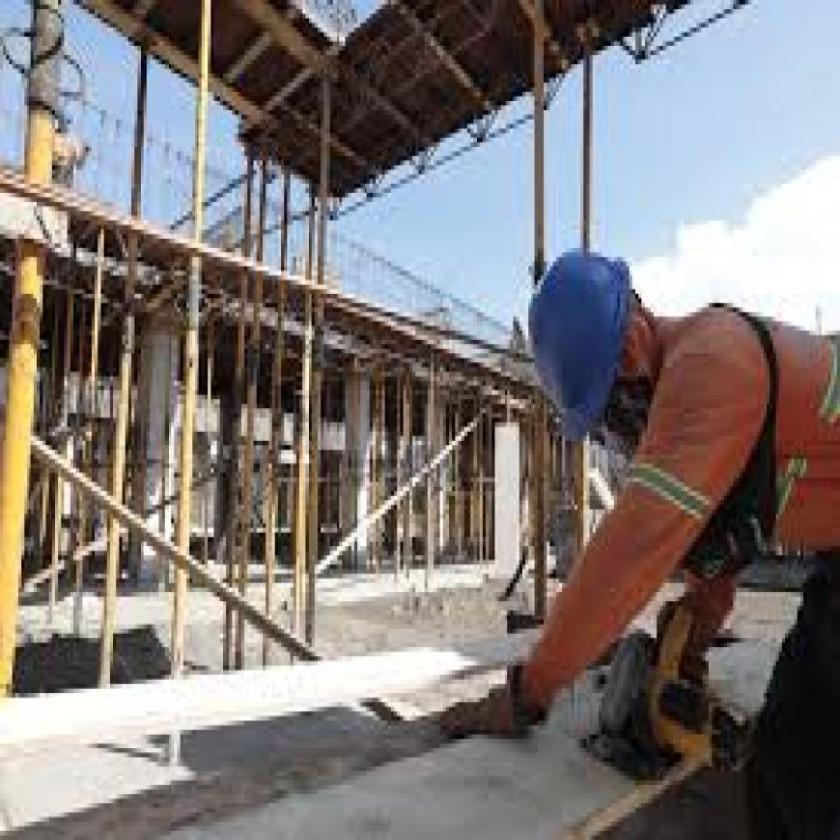Con_casco: (529, 240, 666, 482)
